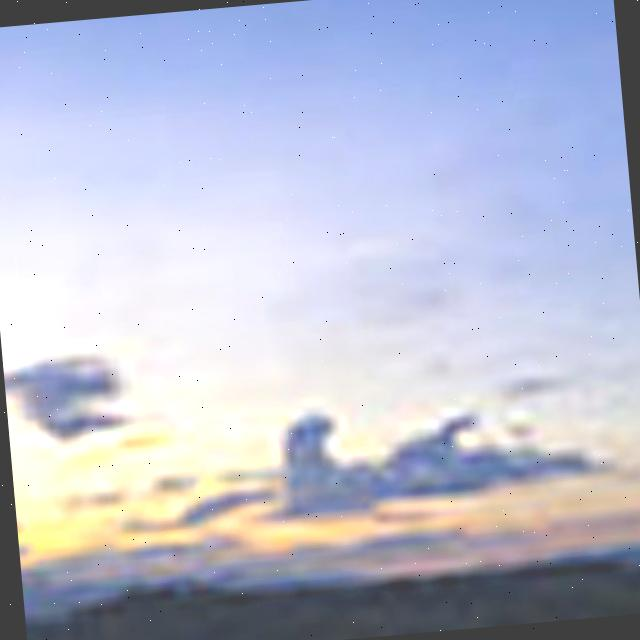As: (1, 189, 640, 634)
